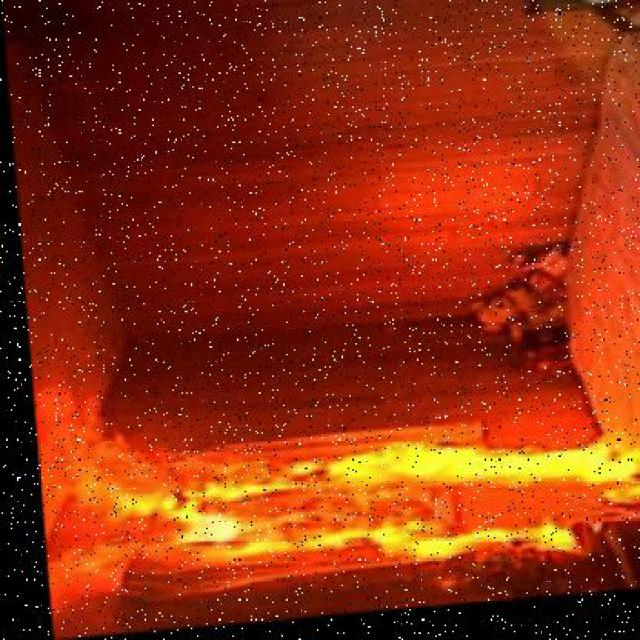fire: (46, 424, 640, 623)
